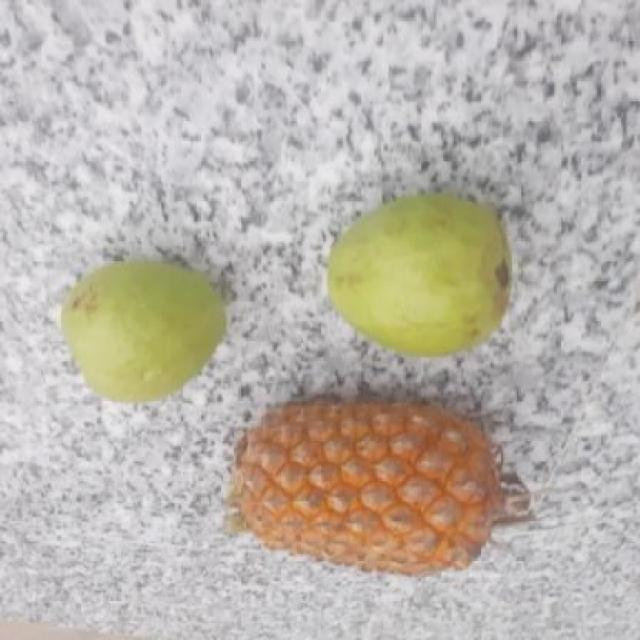guava: (329, 198, 526, 355), (60, 262, 231, 401)
pineapple: (230, 390, 508, 578)
